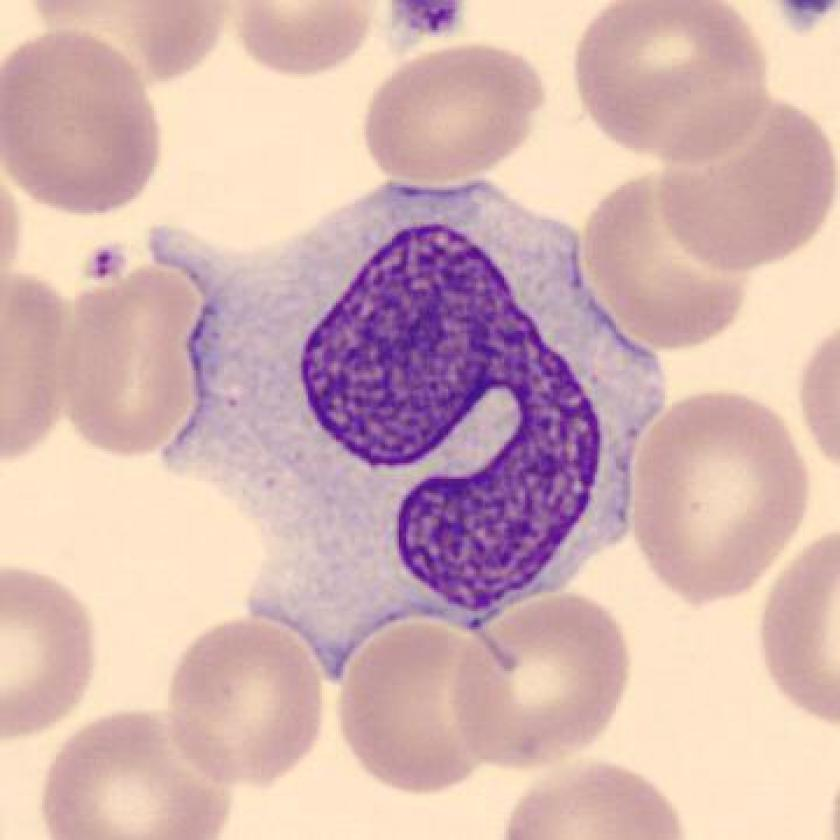monocyte: (122, 161, 694, 695)
